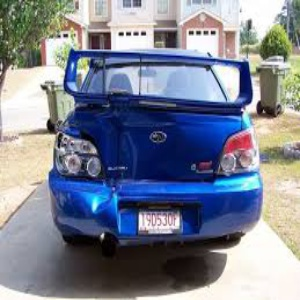bumper: (64, 188, 123, 223)
tail_lights: (48, 134, 107, 179)
